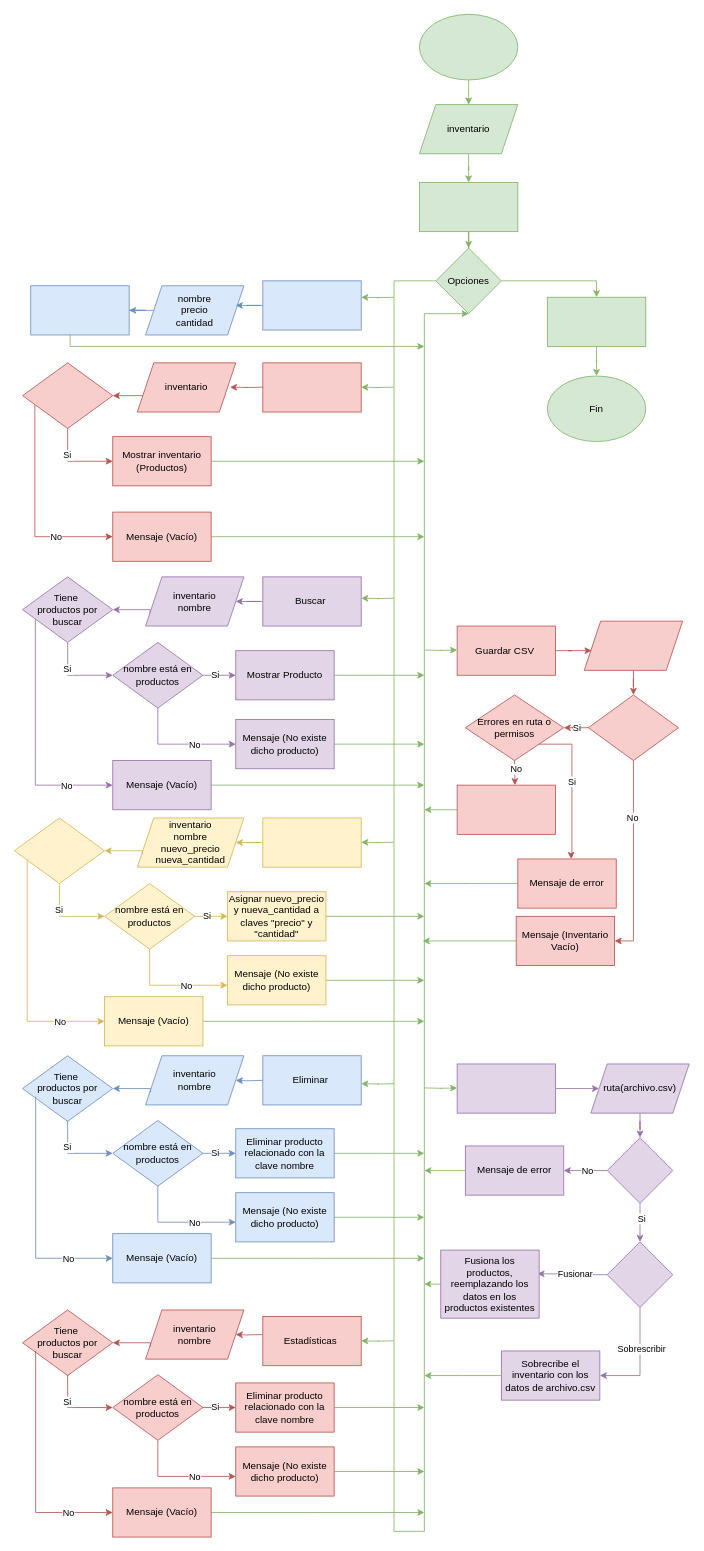
The diagram is 704 pixels wide and 1551 high, and some of its shapes have lost their labels. Here are the shapes that lost their labels. From the top down, the centre of each, then its label:
At [468,47]: "Inicio".
At [468,207]: "Menú".
At [79,310]: "Asignación producto a inventario".
At [311,305]: "Agregar".
At [596,321]: "Salir".
At [67,395]: "Tiene productos por mostrar".
At [311,387]: "Mostrar".
At [633,645]: "inventario ruta(archivo.csv)".
At [633,727]: "Tiene productos a guardar".
At [506,809]: "Guardar inventario en archivo.csv".
At [59,850]: "Tiene productos para actualizar".
At [311,842]: "Actualizar".
At [506,1088]: "Cargar CSV".
At [639,1170]: "Encabezado valido".
At [639,1274]: "Decisión".
